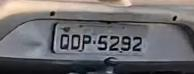Placa_mercosul_carro: (53, 23, 149, 56)
